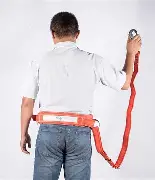safety belt2: (30, 31, 140, 169)
